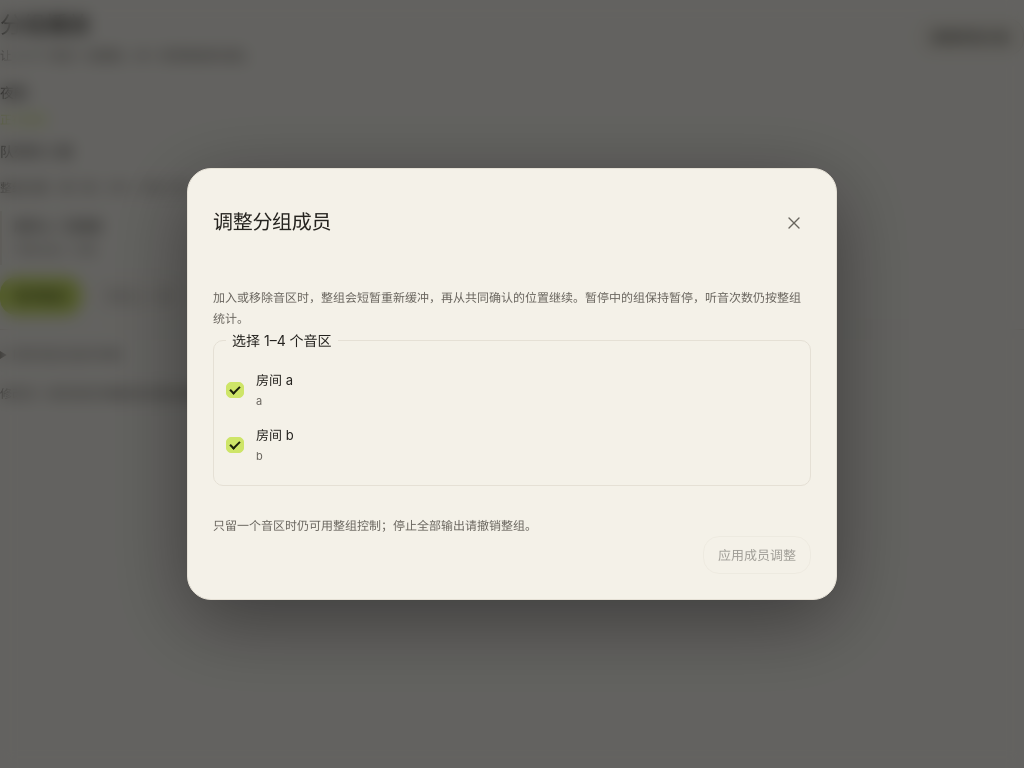
Scenario: 分组播放 › 动态成员只提交明确改组，暂停加入保持暂停，成员变化后拦截旧选择
Earlier steps of the test are not shown.
Later steps or results of the test are not shown.
Click the checkbox labelled "房间 b b": {"x": 235, "y": 445} [226,437,244,453]
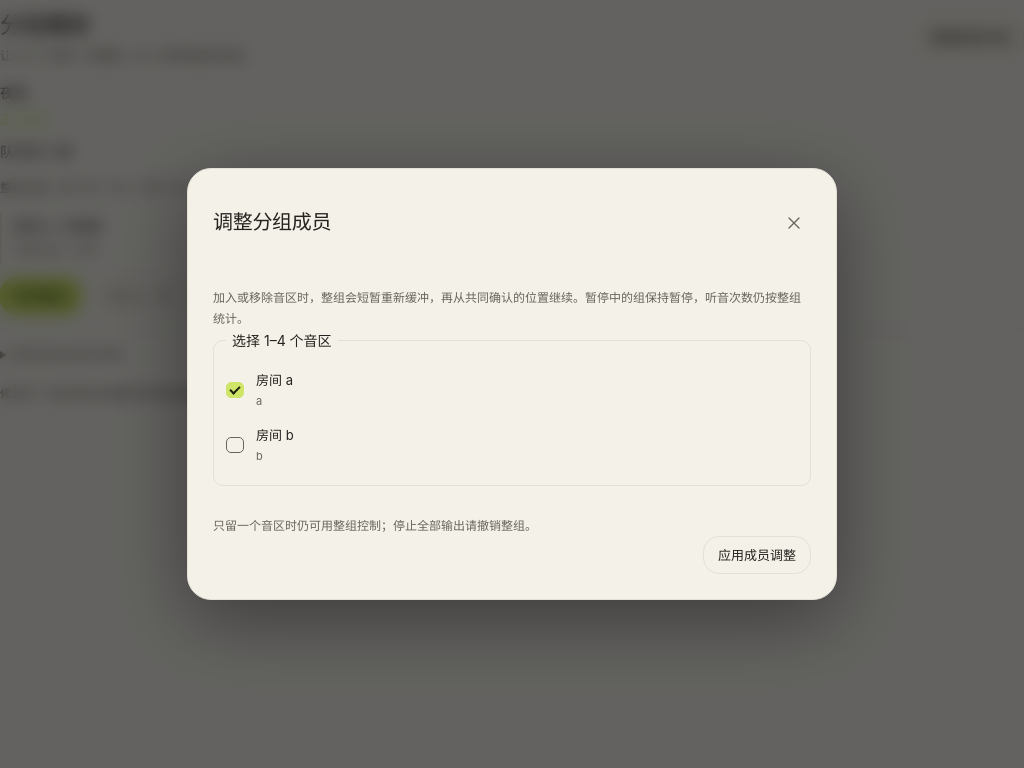
Submit the form, box [213,272,811,574]
Wait 1100 ms
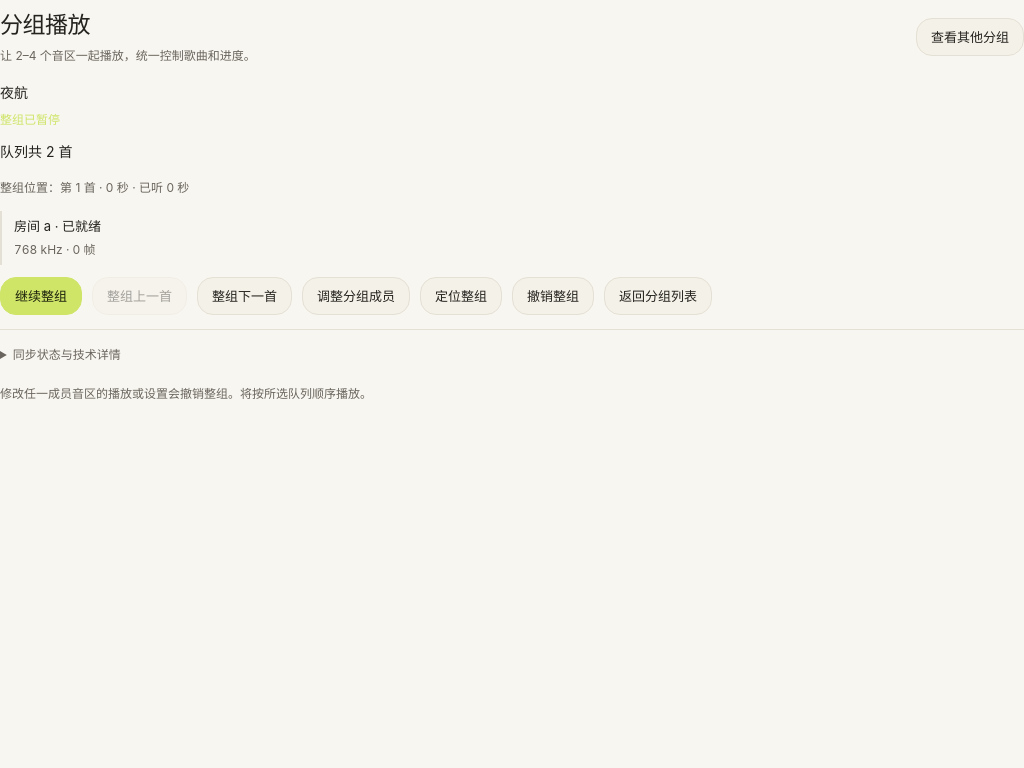
Click the button "调整分组成员": {"x": 356, "y": 296} [302,277,410,316]
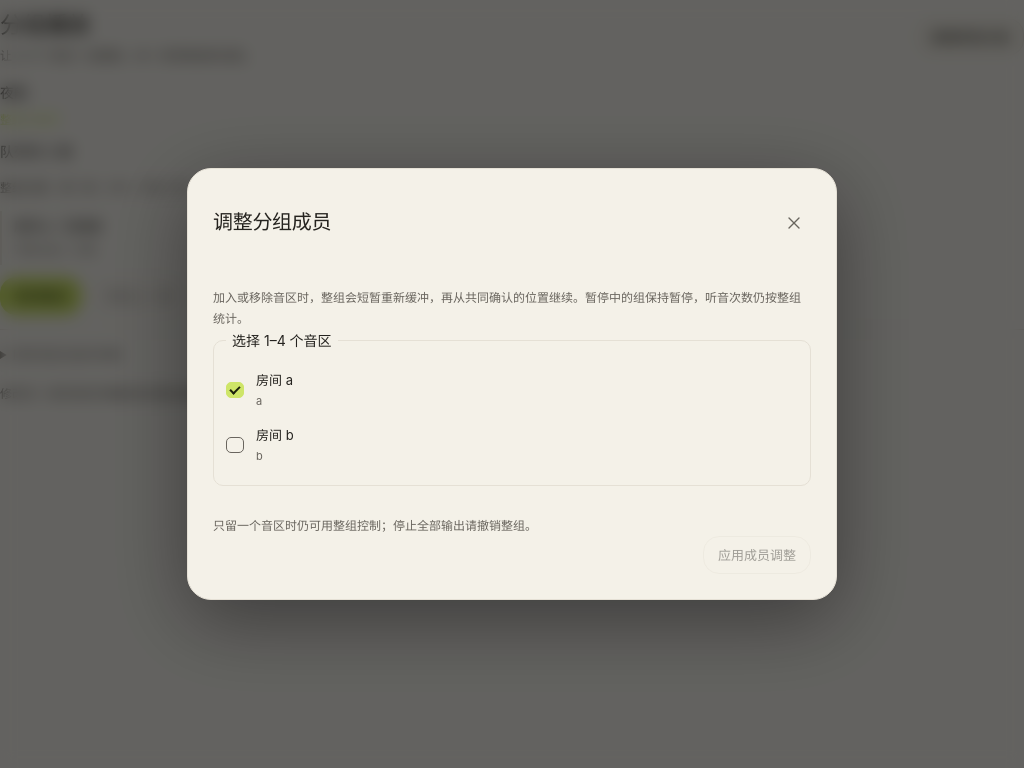
Click the checkbox labelled "房间 b b": {"x": 235, "y": 445} [226,437,244,453]
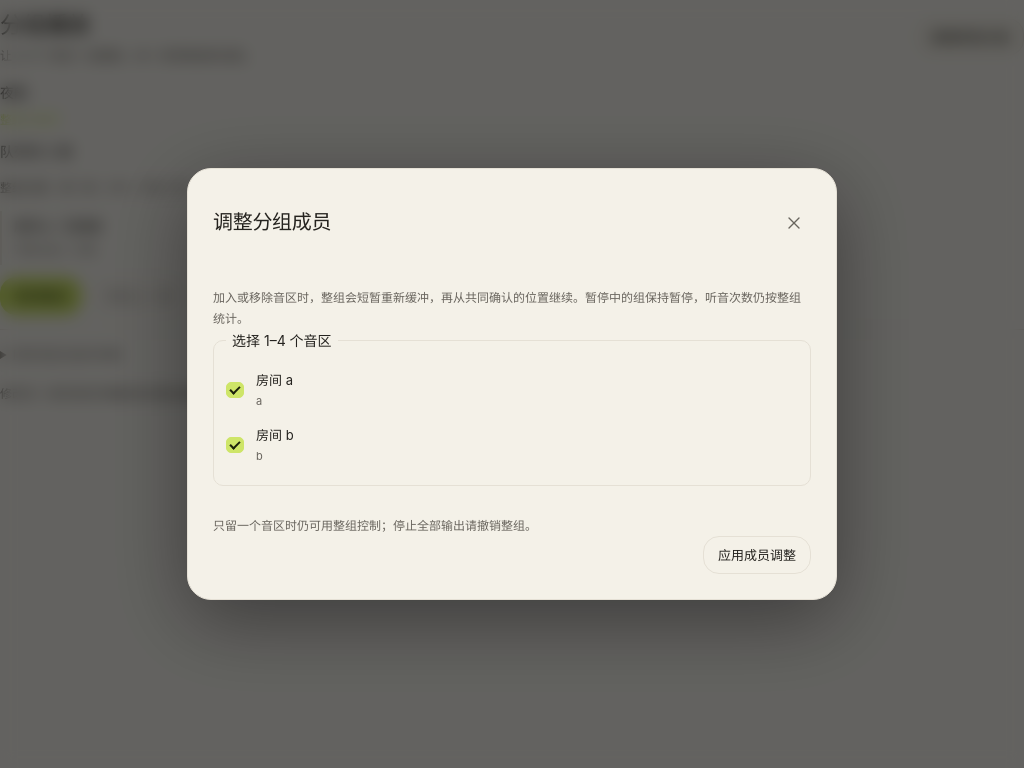
Submit the form, box [213,272,811,574]
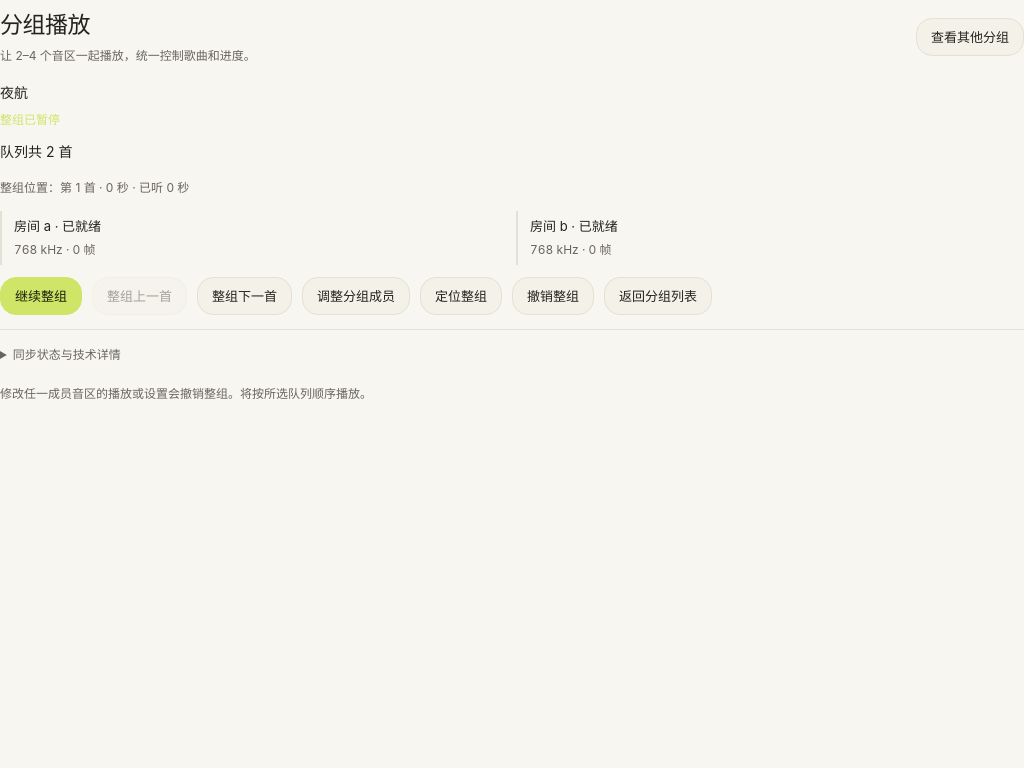
Click the button "调整分组成员": {"x": 356, "y": 296} [302,277,410,316]
Wait 1100 ms
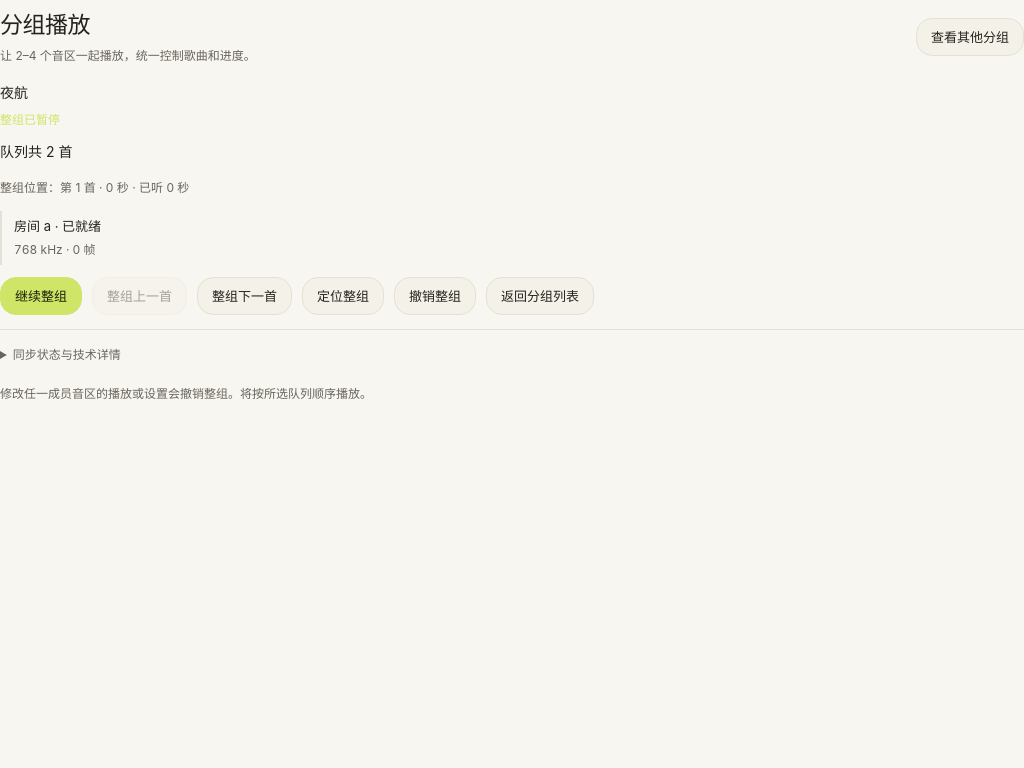
Expected: the text "调整分组成员" is gone
